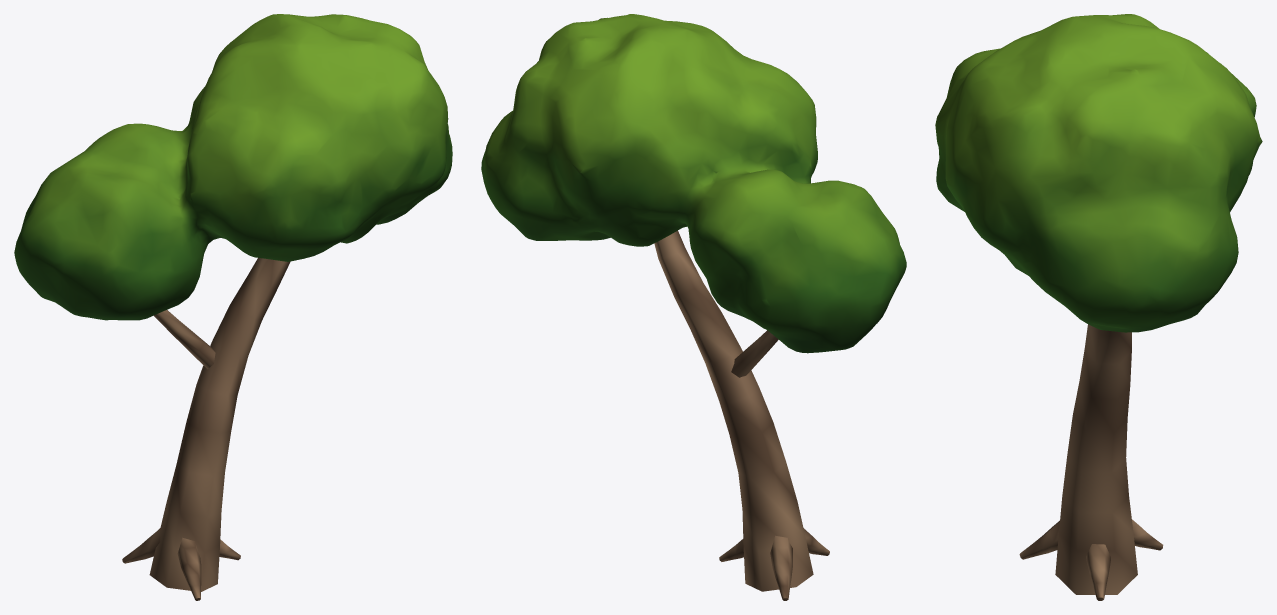
Rendered from SM_StylizedTree3.fbx.
The picture shows the model from 3 angles, left to right: view 1: azimuth 30°, elevation 25°; view 2: azimuth 150°, elevation 25°; view 3: azimuth 270°, elevation 25°; orthographic projection. The views are drawn at different scales.
Parts seen in each view (by area): view 1: SM_StylizedTree3; view 2: SM_StylizedTree3; view 3: SM_StylizedTree3.
Part boxes in pixels (<box>): SM_StylizedTree3: <box>14,14,452,600</box>; SM_StylizedTree3: <box>481,14,906,600</box>; SM_StylizedTree3: <box>935,14,1262,600</box>.
Size of what is drawn, in the model's own units: 4.81 by 5.87 by 2.78.
